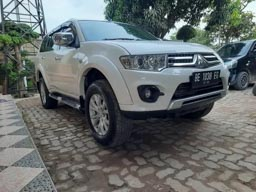plat: (194, 70, 221, 87)
